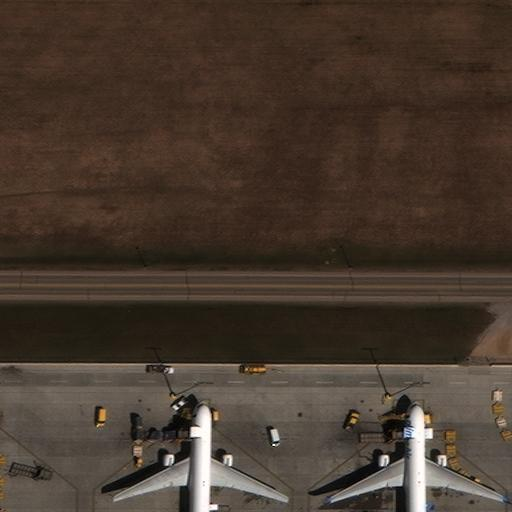Large Civil Transport: (327, 399, 506, 511), (112, 399, 287, 511)
